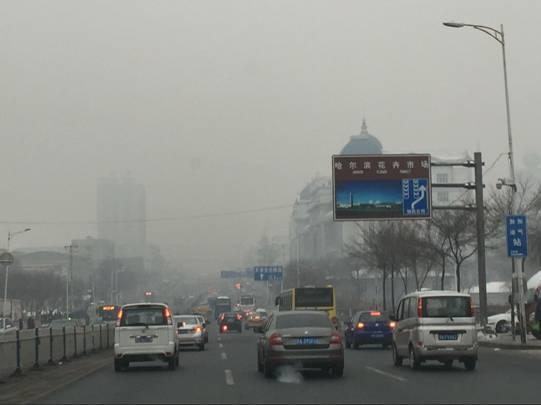bus: (275, 286, 337, 343), (95, 304, 122, 334), (215, 295, 232, 322), (236, 295, 256, 317)
car: (388, 290, 479, 372), (253, 310, 344, 380), (113, 303, 183, 372), (343, 310, 399, 350), (482, 304, 541, 333), (167, 315, 207, 351), (45, 318, 84, 341), (185, 315, 211, 342), (1, 317, 19, 345), (219, 312, 242, 333), (245, 310, 266, 330), (255, 309, 269, 324)
